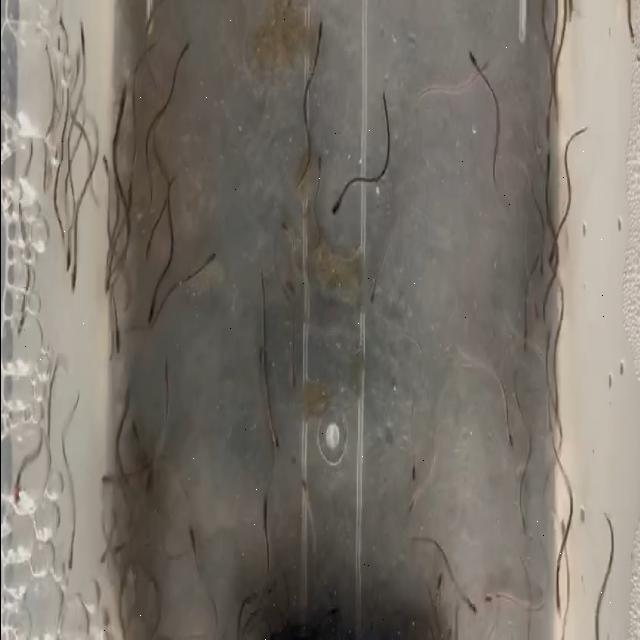active_glass_eel: (90, 454, 118, 505), (178, 510, 202, 568), (399, 474, 419, 537), (276, 204, 296, 253), (92, 535, 114, 577), (550, 566, 570, 610), (152, 351, 172, 394), (7, 309, 33, 342), (467, 33, 482, 90), (105, 323, 125, 365), (483, 574, 501, 620), (508, 510, 528, 550), (295, 473, 317, 509), (302, 28, 328, 58), (324, 182, 344, 220), (176, 33, 192, 77), (310, 146, 336, 173), (61, 538, 76, 584), (264, 428, 284, 462), (138, 298, 156, 334), (10, 466, 26, 506), (401, 454, 423, 483), (118, 379, 136, 412), (66, 265, 82, 301), (94, 266, 108, 306), (204, 248, 219, 284), (53, 252, 73, 275), (502, 419, 518, 447), (540, 292, 554, 324), (466, 590, 480, 622), (514, 331, 530, 356), (137, 240, 149, 270)
